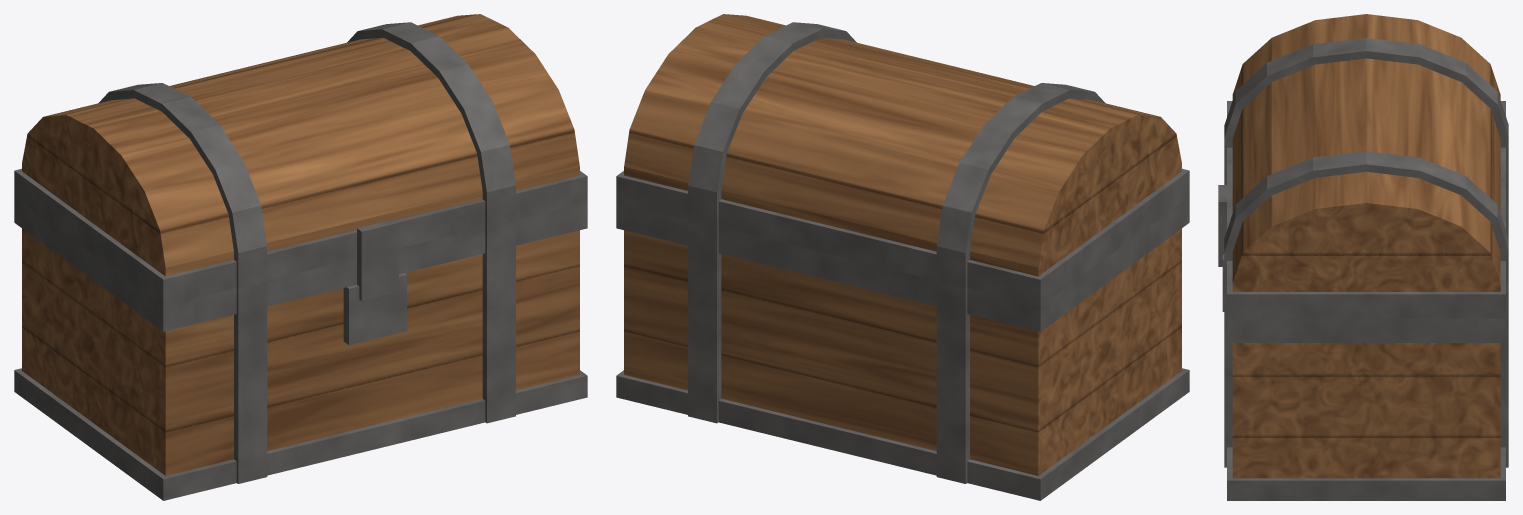
Rendered from TreasureChest.fbx.
The picture shows the model from 3 angles, left to right: view 1: azimuth 30°, elevation 25°; view 2: azimuth 150°, elevation 25°; view 3: azimuth 270°, elevation 25°; orthographic projection. The views are drawn at different scales.
Visible parts, largest first — view 1: Chest_Lid, Chest_Base; view 2: Chest_Base, Chest_Lid; view 3: Chest_Lid, Chest_Base.
Boxes of the visible parts, x1,y1,x2,y2 form: Chest_Lid: (14,14,587,305); Chest_Base: (14,197,587,500); Chest_Base: (616,197,1189,500); Chest_Lid: (616,14,1189,305); Chest_Lid: (1218,14,1508,318); Chest_Base: (1222,172,1508,500).
Size of the model in its own units: 1.02 by 0.7482 by 0.65.
2 materials, 2 textured.
